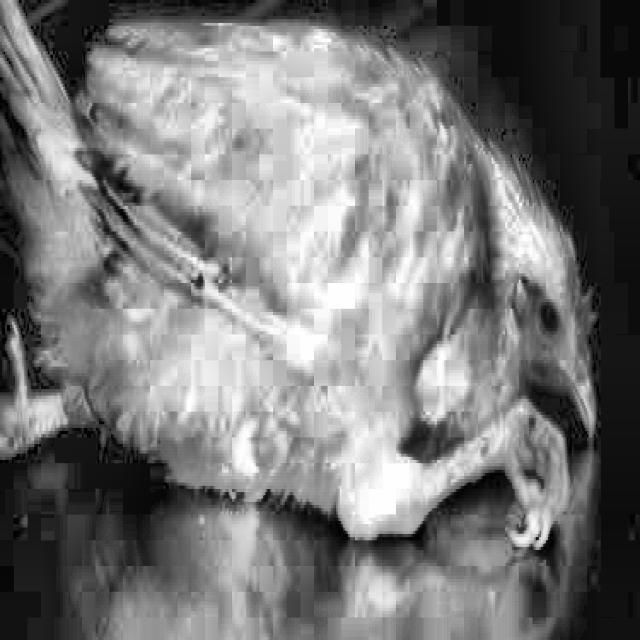Newcastle: (0, 0, 621, 629)
